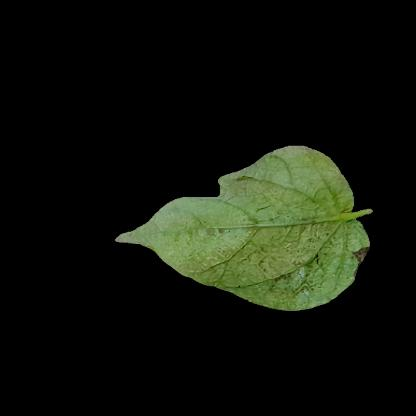curl_stage2: (214, 191, 327, 281), (168, 198, 214, 264), (251, 158, 325, 184)
